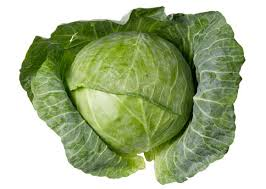cabbage: (54, 30, 206, 157)
